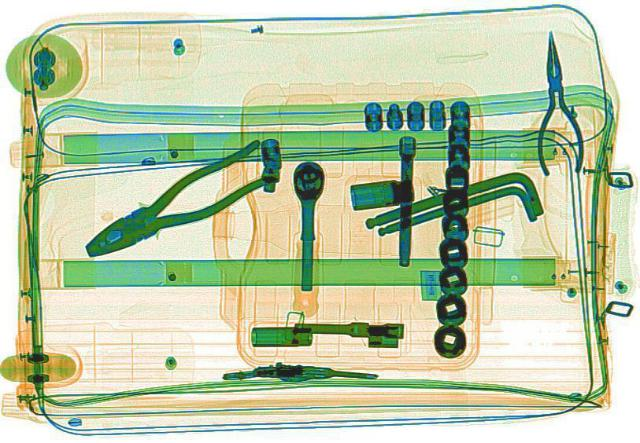Gun: (221, 360, 379, 384)
Pliers: (61, 138, 300, 269), (528, 29, 584, 175)
